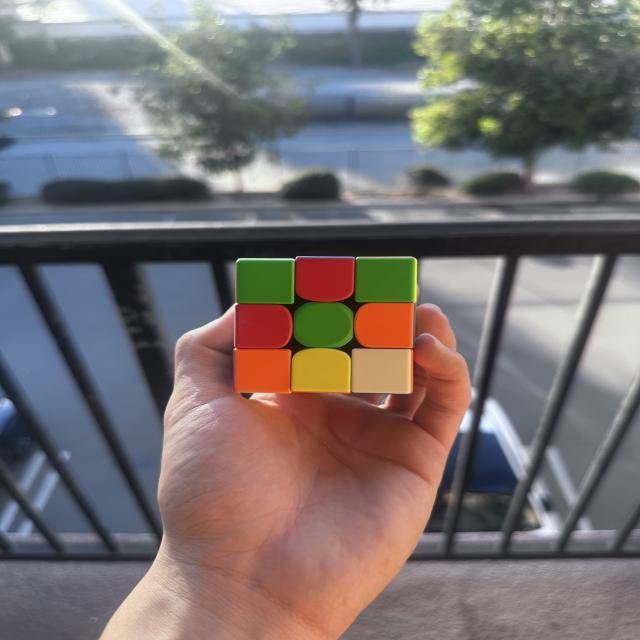sticker: (357, 256, 416, 305), (236, 257, 295, 305), (294, 302, 355, 348), (353, 348, 414, 394), (232, 348, 294, 393), (358, 303, 417, 350), (296, 255, 354, 302), (293, 348, 351, 394), (234, 304, 293, 347)
